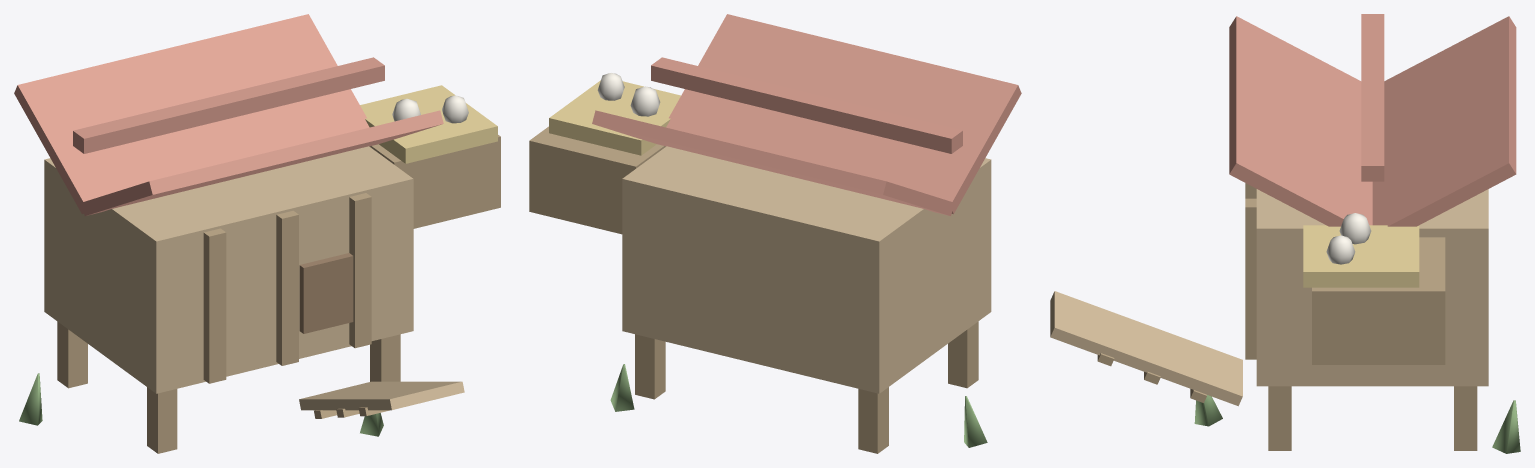
File: chicken_coop.fbx
3 views of the same model, side by side, from view 1: azimuth 30°, elevation 25°; view 2: azimuth 150°, elevation 25°; view 3: azimuth 270°, elevation 25° (orthographic). The views are drawn at different scales.
Visible parts, largest first — view 1: EN_chicken_coop; view 2: EN_chicken_coop; view 3: EN_chicken_coop.
Part boxes in pixels (x1,y1,x2,y2): EN_chicken_coop: (14,14,500,453); EN_chicken_coop: (529,14,1021,453); EN_chicken_coop: (1050,14,1520,453).
Size of the model in its own units: 181 by 115 by 162.
